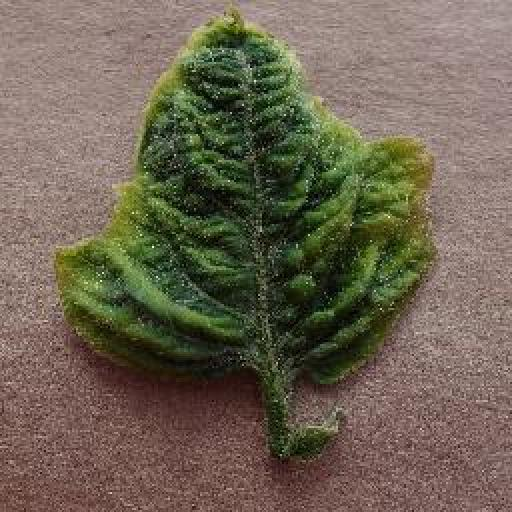Yellow Leaf Curl Virus: (53, 4, 443, 387)
